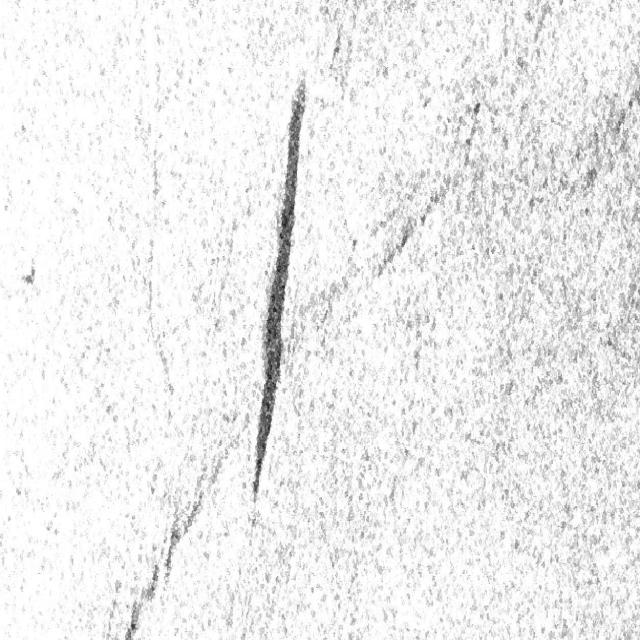oil-spill: (246, 78, 324, 506)
